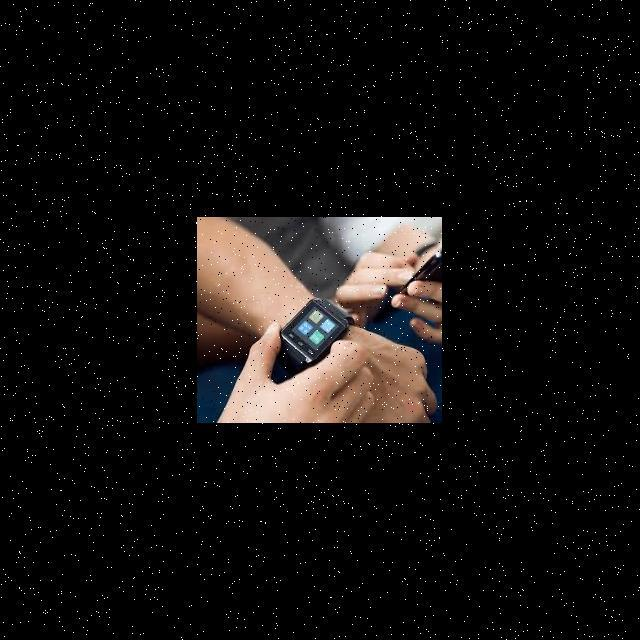watch: (277, 287, 348, 368)
